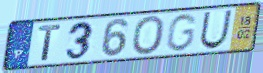3: (63, 19, 99, 62)
6: (100, 17, 131, 59)
G: (164, 12, 199, 53)
O: (130, 14, 166, 57)
T: (36, 23, 64, 62)
U: (198, 9, 234, 51)
